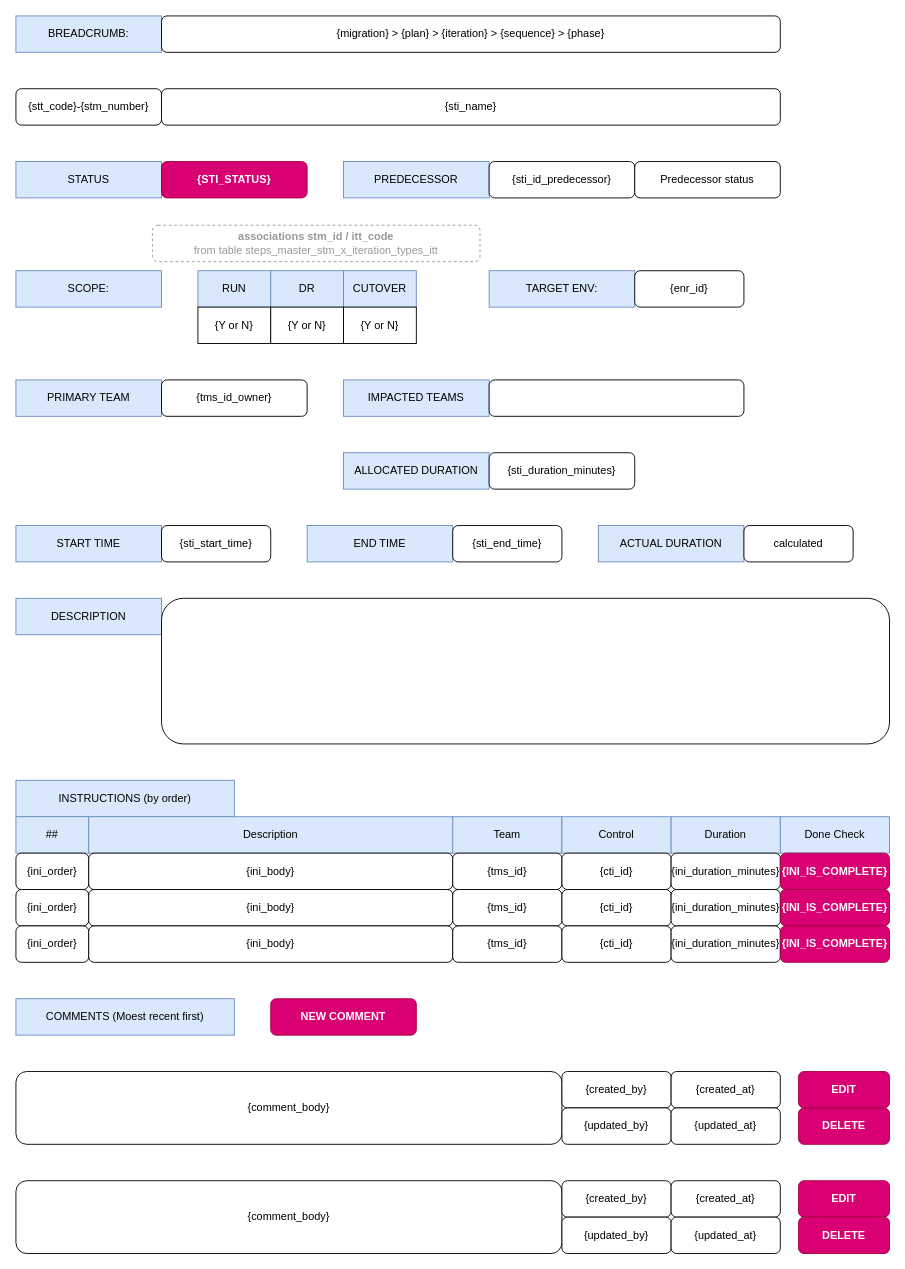
Some shapes in this 905 by 1269 pixel diagram are drawn without their labels. Each missing label, with the centre of its shape:
Array of {tms_id} from steps_master_stm_x_teams_tms_impacted: (616,397)
{sti_description}: (525,670)
